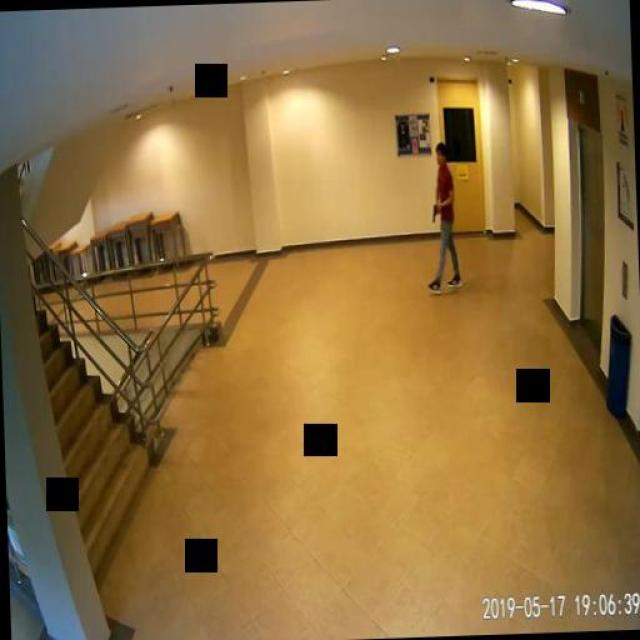gun: (430, 202, 439, 222)
